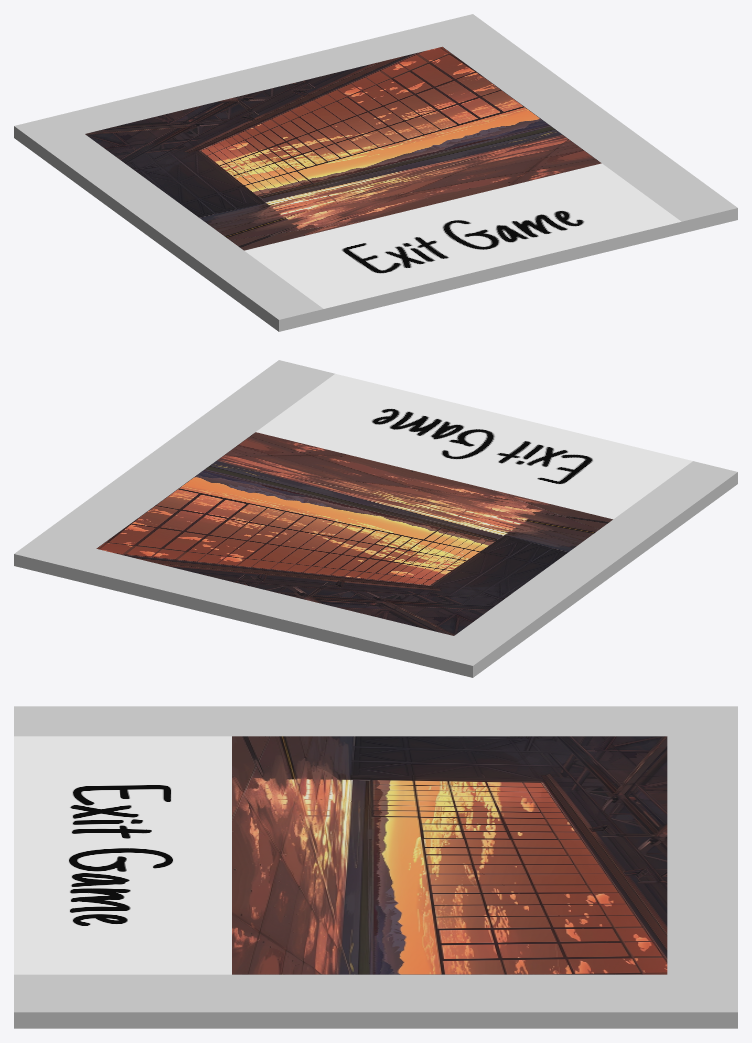
File: Polaroid_ExitGame.fbx
3 views of the same model, one above another, from view 1: azimuth 30°, elevation 25°; view 2: azimuth 150°, elevation 25°; view 3: azimuth 270°, elevation 25° (orthographic). The views are drawn at different scales.
Parts seen in each view (by area): view 1: Plane.001; view 2: Plane.001; view 3: Plane.001.
Boxes of the visible parts, x1,y1,x2,y2 form: Plane.001: [14, 14, 737, 331]; Plane.001: [14, 360, 737, 677]; Plane.001: [14, 706, 737, 1028].
Bounding box in the file's own units: 400 × 10 × 400.
